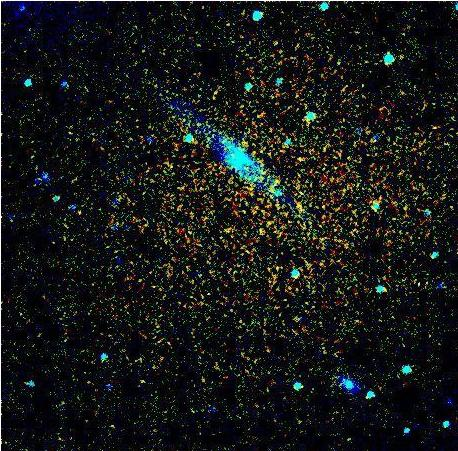star: (284, 191, 314, 221)
